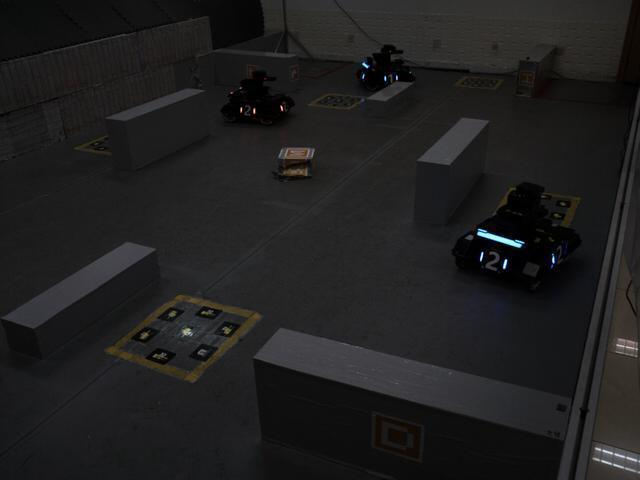armor: (478, 247, 509, 278), (548, 244, 570, 270), (235, 101, 259, 120), (379, 72, 401, 87), (276, 99, 293, 116)
